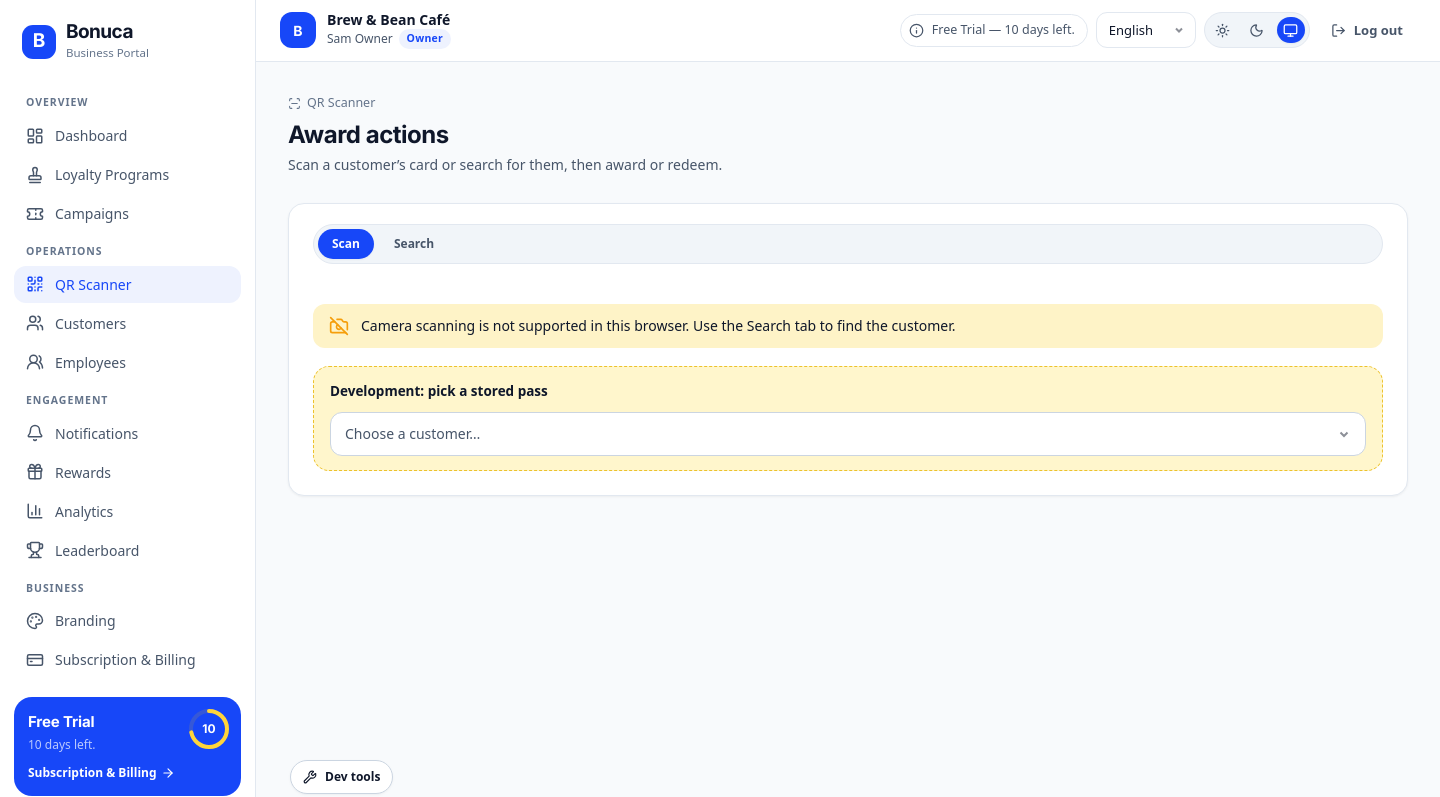
Award actions (QR Scanner, spec §4.4) › points: purchase amount shows the points it will give; nothing is saved until "Credit X points"
The image size is (1440, 797).
expect the heading "Award actions" is shown: met, box left=288, top=120, right=449, bottom=150
Click the tab "Search". click: (414, 244)
box: left=380, top=229, right=448, bottom=259
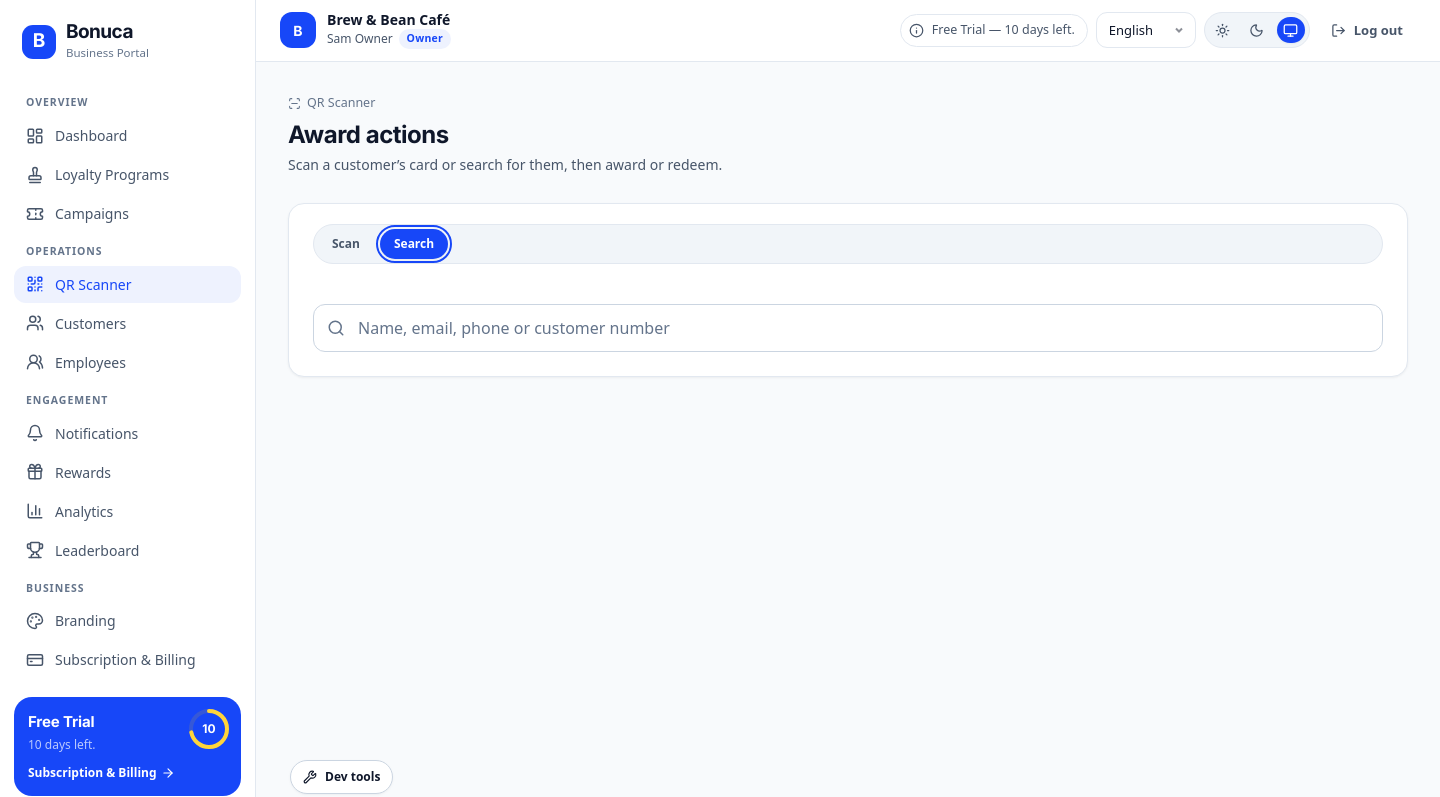
Type "C-10004" into the field named "Search customers". click: (848, 328)
box: left=313, top=304, right=1383, bottom=352
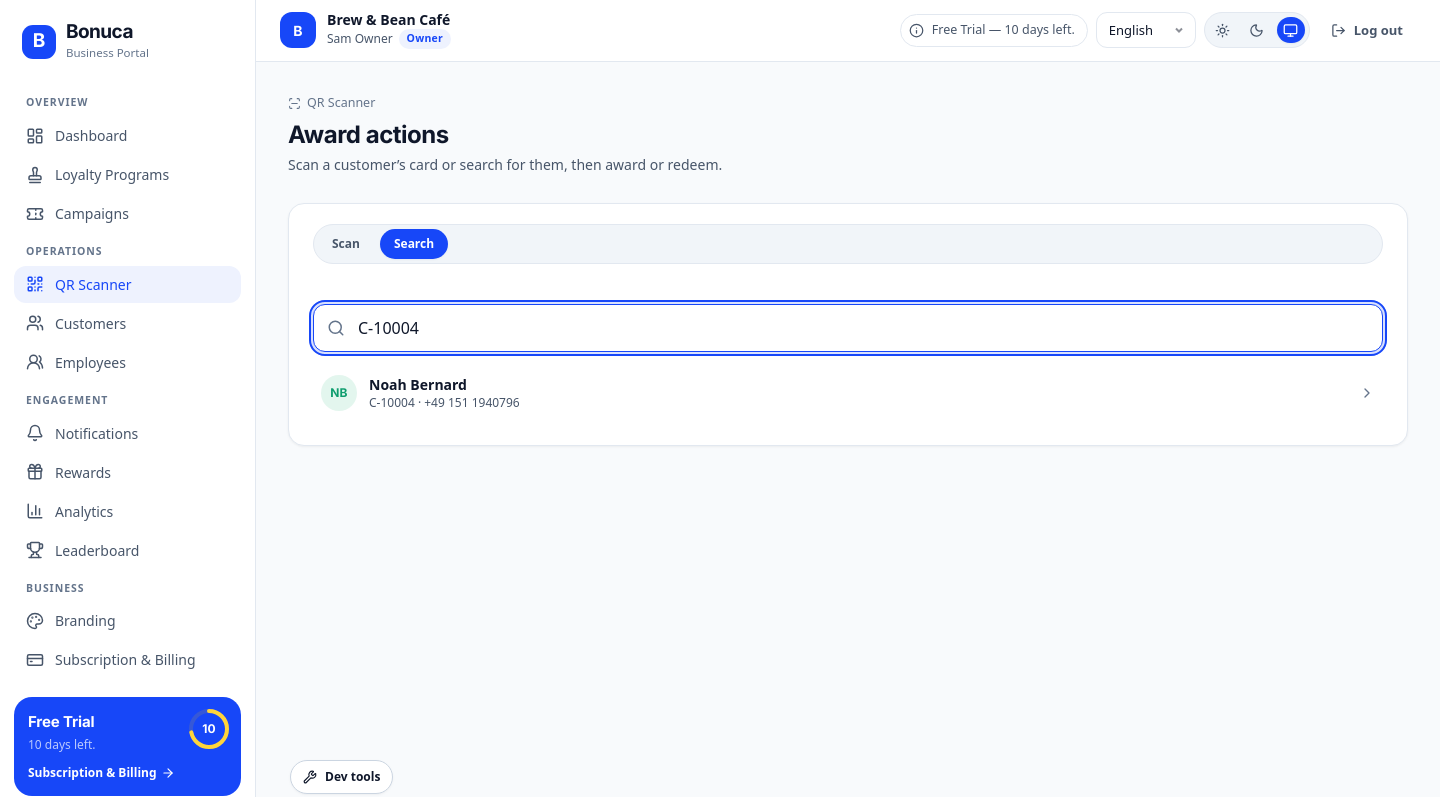
Click the button "Noah Bernard C-10004 · +49 151 1940796". click: (339, 393)
box: left=313, top=364, right=1383, bottom=421
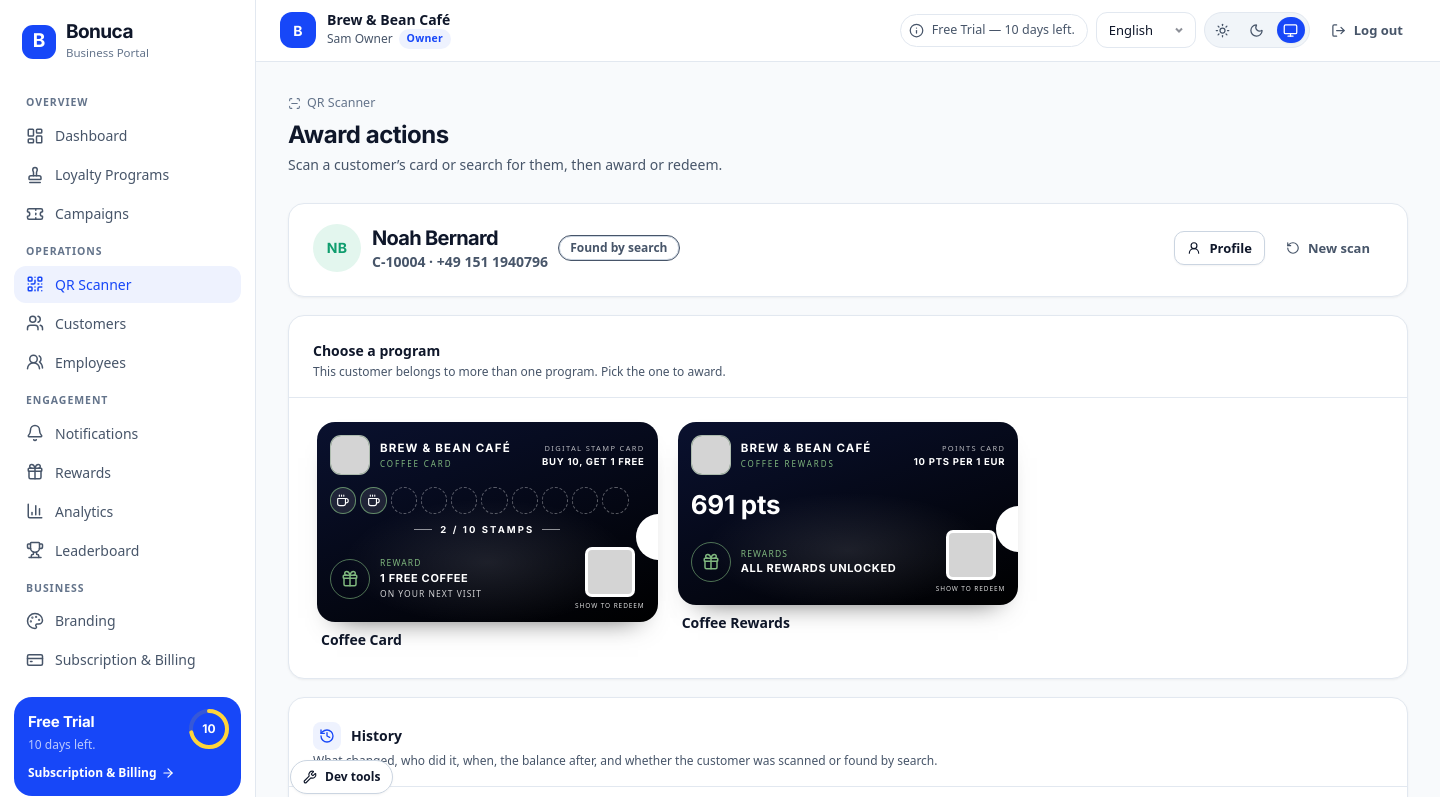
Click the 5th radio button. click: (848, 528)
box: left=674, top=418, right=1022, bottom=637
(page scrolled)
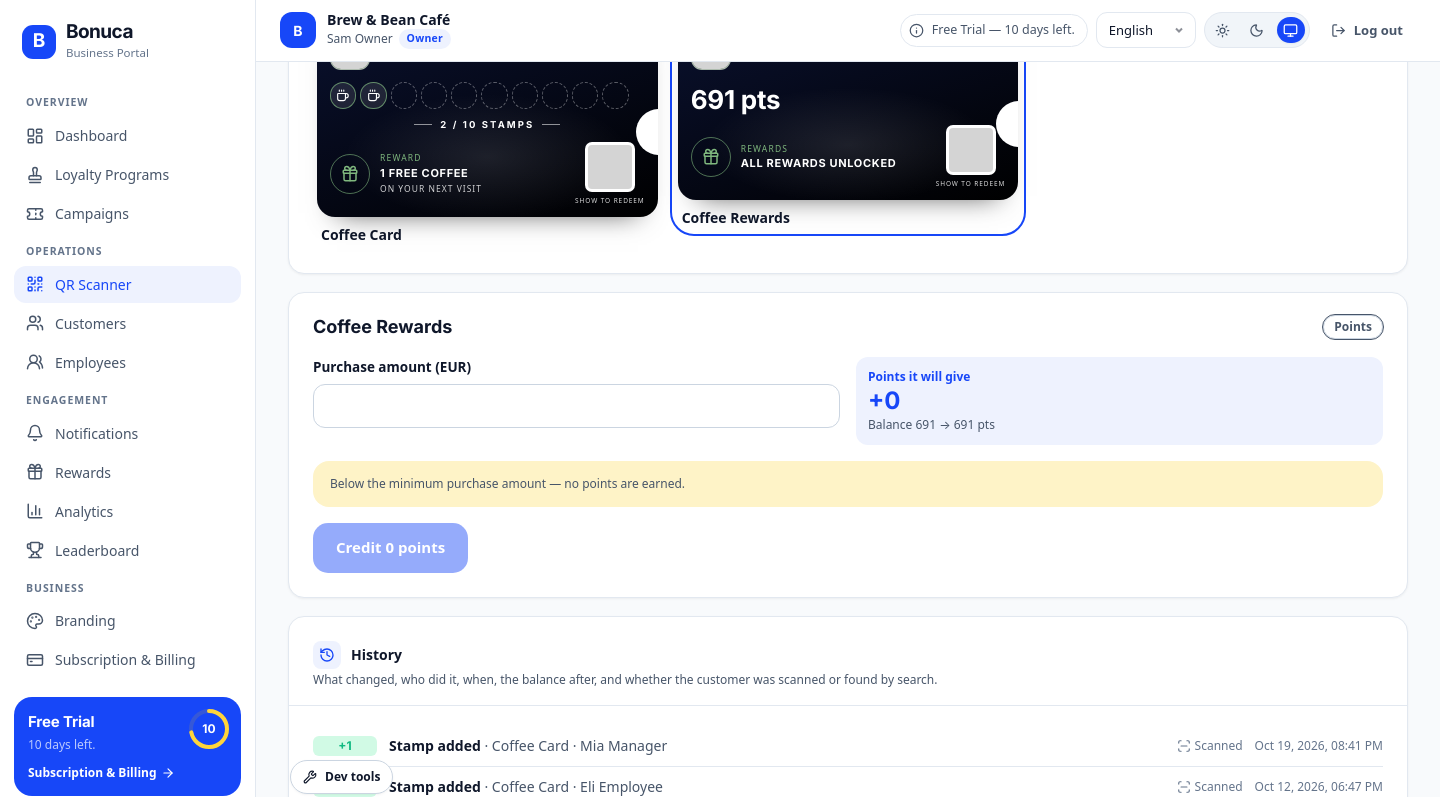
Type "4.20" into the number field labelled "Purchase amount (EUR)". click: (576, 406)
box: left=313, top=384, right=840, bottom=428
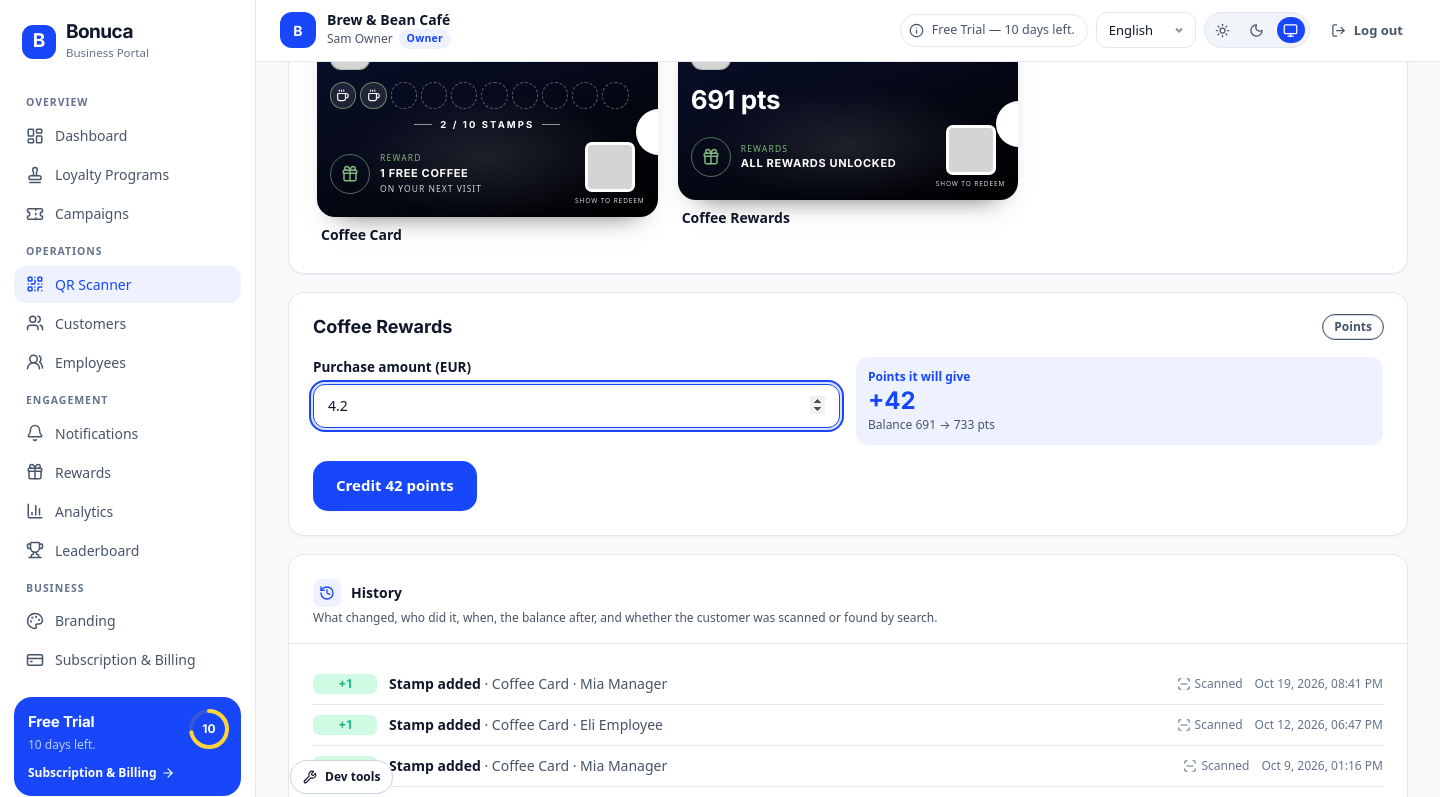
expect the text "Points it will give" is shown: met, box left=868, top=368, right=970, bottom=385
expect the button "Credit 42 points" is shown: met, box left=313, top=461, right=477, bottom=511
